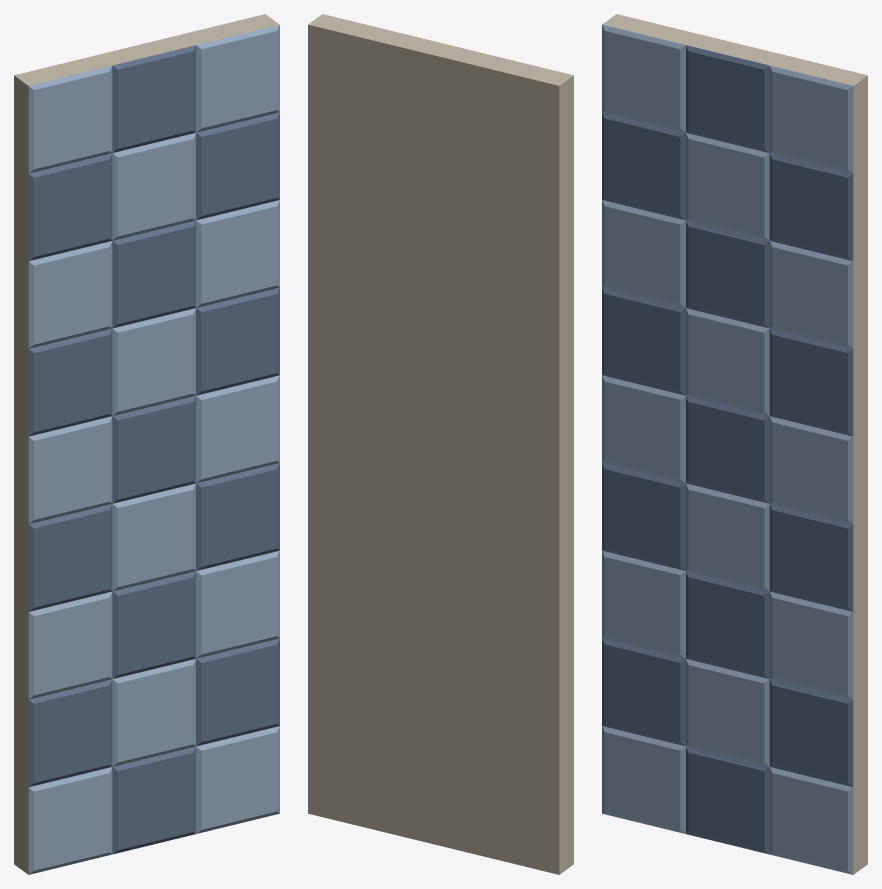
Rendered from Mesh_WallCeramic_N1.fbx.
3 renders of one model, left to right at view 1: azimuth 30°, elevation 25°; view 2: azimuth 150°, elevation 25°; view 3: azimuth 330°, elevation 25°, orthographic.
Parts seen in each view (by area): view 1: Mesh_WallCeramic_N1; view 2: Mesh_WallCeramic_N1; view 3: Mesh_WallCeramic_N1.
Part boxes in pixels (left/top/right/bottom): Mesh_WallCeramic_N1: left=14, top=14, right=279, bottom=874; Mesh_WallCeramic_N1: left=308, top=14, right=573, bottom=874; Mesh_WallCeramic_N1: left=602, top=14, right=867, bottom=874.
Size of the model in its own units: 1 by 3 by 0.1096.
